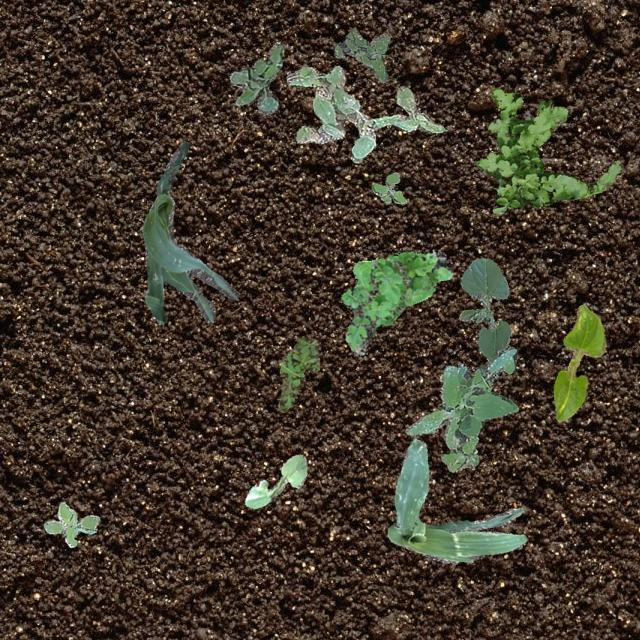crop: (140, 140, 237, 323), (386, 438, 526, 564), (552, 304, 606, 422), (458, 256, 510, 362), (244, 453, 306, 508)
weed: (476, 86, 622, 212), (286, 65, 447, 162), (406, 346, 518, 470), (340, 250, 450, 354), (228, 41, 282, 114), (278, 334, 318, 410), (334, 27, 389, 82), (42, 502, 98, 546), (370, 172, 406, 202)
